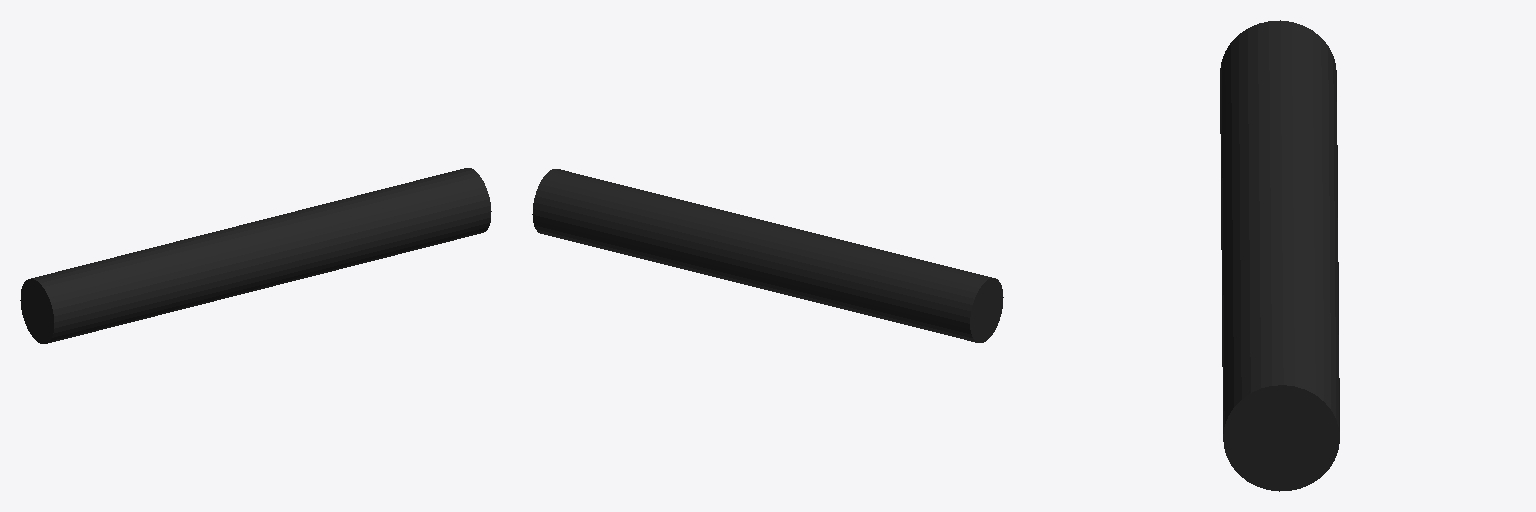
The robot description file, URDF, robot "quad_2_arm":
<?xml version="1.0" encoding="utf-8"?>
 <robot name="quad_2_arm">
    <link name="link1_base">
        <inertial>
            <origin xyz="0 0 0" rpy="0 0 0" />
            <mass value="0.01" />
            <inertia ixx="0.01" iyy="0.01" izz="0.01" ixy="0" ixz="0" iyz="0" />
        </inertial>
<!--         <visual>
            <origin xyz="0 0 0" rpy="0 0 0" />
            <geometry>
                <box size = "0.2 0.1 0.1"/>
            </geometry>
        </visual> -->
<!--         <collision>
            <origin xyz="0 0 0" rpy="0 -0 0" />
        </collision> -->
    </link>
    <link name="link2_virtual">
        <inertial>
            <origin xyz="0 0 0" rpy="0 0 0" />
            <mass value="0.01" />
            <inertia ixx="0.01" iyy="0.01" izz="0.01" ixy="0" ixz="0" iyz="0" />
        </inertial>
<!--         <visual>
            <origin xyz="0 0 0" rpy="0 0 0" />
            <geometry>
                <box size = "0.1 0.2 0.1"/>
            </geometry>
        </visual> -->
<!--         <collision>
            <origin xyz="0 0 0" rpy="0 -0 0" />
        </collision> -->
    </link>
    <link name="link3_virtual">
        <inertial>
            <origin xyz="0 0 0" rpy="0 0 0" />
            <mass value="0.01" />
            <inertia ixx="0.01" iyy="0.01" izz="0.01" ixy="0" ixz="0" iyz="0" />
        </inertial>
<!--         <visual>
            <origin xyz="0 0 0" rpy="0 0 0" />
            <geometry>
                <box size = "0.1 0.1 0.2"/>
            </geometry>
        </visual> -->
<!--         <collision>
            <origin xyz="0 0 0" rpy="0 -0 0" />
        </collision> -->
    </link>
    <link name="link4_virtual">
        <inertial>
            <origin xyz="0 0 0" rpy="0 0 0" />
            <mass value="0.01" />
            <inertia ixx="0.01" iyy="0.01" izz="0.01" ixy="0" ixz="0" iyz="0" />
        </inertial>
<!--         <visual>
            <origin xyz="0 0 0" rpy="0.0 -1.570796 0.0"  />
            <geometry>
                <cylinder radius="0.025" length="0.7"/>
            </geometry>
            <material name="axes_red">
                <color rgba="0.7 0.0 0.0 0.5" />
            </material>
        </visual> -->
<!--         <collision>
            <origin xyz="0 0 0" rpy="0 -0 0" />
        </collision> -->
    </link>
    <link name="link5_virtual">
        <inertial>
            <origin xyz="0 0 0" rpy="0 0 0" />
            <mass value="0.01" />
            <inertia ixx="0.01" iyy="0.01" izz="0.01" ixy="0" ixz="0" iyz="0" />
        </inertial>
<!--         <visual>
            <origin xyz="0 0 0" rpy="1.570796 0.0 0.0" />
            <geometry>
                <cylinder radius="0.025" length="0.7"/>
            </geometry>
            <material name="axes_green">
                <color rgba="0.0 0.7 0.0 0.5" />
            </material>
        </visual> -->
<!--         <collision>
            <origin xyz="0 0 0" rpy="0 -0 0" />
        </collision> -->
    </link>
    <link name="link6_virtual">
        <inertial>
            <origin xyz="0 0 0" rpy="0 0 0" />
            <mass value="0.01" />
            <inertia ixx="0.01" iyy="0.01" izz="0.01" ixy="0" ixz="0" iyz="0" />
        </inertial>
<!--         <visual>
            <origin xyz="0 0 0" rpy="0.0 1.570796 0.0"  />
            <geometry>
                <cylinder radius="0.025" length="0.7"/>
            </geometry>
            <material name="axes_blue">
                <color rgba="0.0 0.0 0.7 0.5" />
            </material>
        </visual> -->
<!--         <collision>
            <origin xyz="0 0 0" rpy="0 -0 0" />
        </collision> -->
    </link>

 <link name="armL_bfinger">
      <inertial>
        <origin xyz="0 0 0" rpy="0 0 0"/>
        <mass value="0.05426"/>
        <inertia ixx="0.001" ixy="0" ixz="0" iyy="0.001" iyz="0" izz="0.001"/>
      </inertial>
      <visual name="visual_0_armL_bfinger">
        <origin xyz="0 0 0" rpy="0 0 0"/>
        <geometry>
          <mesh filename="../../../model/quadrotor/dji_arms_exported_urdf_blender/meshes/obj/armL bfinger.002.obj" scale="1.0 1.0 1.0"/>
        </geometry>
      </visual>
      <collision name="collision_0_armL_bfinger">
        <origin xyz="0 0 0" rpy="0 0 0"/>
        <geometry>
          <mesh filename="../../../model/quadrotor/dji_arms_exported_urdf_blender/meshes/obj/armL bfinger.003.obj" scale="1.0 1.0 1.0"/>
        </geometry>
      </collision>
    </link>

    <link name="armL_hand">
      <inertial>
        <origin xyz="0 0 0" rpy="0 0 0"/>
        <mass value="0.51528"/>
        <inertia ixx="0.001" ixy="-2e-05" ixz="0" iyy="0.001" iyz="0" izz="0.001"/>
      </inertial>
      <visual name="visual_0_armL_hand">
        <origin xyz="0 0 0" rpy="0 0 0"/>
        <geometry>
          <mesh filename="../../../model/quadrotor/dji_arms_exported_urdf_blender/meshes/obj/armL hand.004.obj" scale="1.0 1.0 1.0"/>
        </geometry>
<!--         <material name="hand_blue"/> -->
      </visual>
<!--       <collision name="collision_0_armL_hand">
        <origin xyz="0 0 0" rpy="0 0 0"/>
        <geometry>
          <mesh filename="../../../model/quadrotor/dji_arms_exported_urdf_blender/meshes/obj/armL hand.005.obj" scale="1.0 1.0 1.0"/>
        </geometry>
      </collision> -->
    </link>

    <link name="armL_link1">
      <inertial>
        <origin xyz="0 0 0" rpy="0 0 0"/>
        <mass value="0.29699"/>
        <inertia ixx="0.001" ixy="0" ixz="0" iyy="0.001" iyz="-2e-05" izz="0.001"/>
      </inertial>
      <visual name="visual_0_armL_link1">
        <origin xyz="0 0 0" rpy="0 0 0"/>
        <geometry>
          <mesh filename="../../../model/quadrotor/dji_arms_exported_urdf_blender/meshes/obj/armL link1.004.obj" scale="1.0 1.0 1.0"/>
        </geometry>
<!--         <material name="arm_beige"/> -->
      </visual>
<!--       <collision name="collision_0_armL_link1">
        <origin xyz="0 0 0" rpy="0 0 0"/>
        <geometry>
          <mesh filename="../../../model/quadrotor/dji_arms_exported_urdf_blender/meshes/obj/armL link1.005.obj" scale="1.0 1.0 1.0"/>
        </geometry>
      </collision> -->
    </link>

    <link name="armL_link2">
      <inertial>
        <origin xyz="0 0 0" rpy="0 0 0"/>
        <mass value="0.43522"/>
        <inertia ixx="0.00442" ixy="0" ixz="0" iyy="0.001" iyz="0" izz="0.00438"/>
      </inertial>
      <visual name="visual_0_armL_link2">
        <origin xyz="0 0 0" rpy="0 0 0"/>
        <geometry>
          <mesh filename="../../../model/quadrotor/dji_arms_exported_urdf_blender/meshes/obj/armL link2.002.obj" scale="1.0 1.0 1.0"/>
        </geometry>
      </visual>
<!--       <collision name="collision_0_armL_link2">
        <origin xyz="0 0 0" rpy="0 0 0"/>
        <geometry>
          <mesh filename="../../../model/quadrotor/dji_arms_exported_urdf_blender/meshes/obj/armL link2.003.obj" scale="1.0 1.0 1.0"/>
        </geometry>
      </collision> -->
    </link>

    <link name="armL_link3">
      <inertial>
        <origin xyz="0 0 0" rpy="0 0 0"/>
        <mass value="0.40456"/>
        <inertia ixx="0.00113" ixy="0" ixz="0" iyy="0.001" iyz="8e-05" izz="0.00112"/>
      </inertial>
      <visual name="visual_0_armL_link3">
        <origin xyz="0 0 0" rpy="0 0 0"/>
        <geometry>
          <mesh filename="../../../model/quadrotor/dji_arms_exported_urdf_blender/meshes/obj/armL link3.002.obj" scale="1.0 1.0 1.0"/>
        </geometry>
      </visual>
<!--       <collision name="collision_0_armL_link3">
        <origin xyz="0 0 0" rpy="0 0 0"/>
        <geometry>
          <mesh filename="../../../model/quadrotor/dji_arms_exported_urdf_blender/meshes/obj/armL link3.003.obj" scale="1.0 1.0 1.0"/>
        </geometry>
      </collision> -->
    </link>

    <link name="armL_tfinger">
      <inertial>
        <origin xyz="0 0 0" rpy="0 0 0"/>
        <mass value="0.10851"/>
        <inertia ixx="0.001" ixy="0" ixz="0" iyy="0.001" iyz="0" izz="0.001"/>
      </inertial>
      <visual name="visual_0_armL_tfinger">
        <origin xyz="0 0 0" rpy="0 0 0"/>
        <geometry>
          <mesh filename="../../../model/quadrotor/dji_arms_exported_urdf_blender/meshes/obj/armL tfinger.004.obj" scale="1.0 1.0 1.0"/>
        </geometry>
      </visual>
      <collision name="collision_0_armL_tfinger">
        <origin xyz="0 0 0" rpy="0 0 0"/>
        <geometry>
          <mesh filename="../../../model/quadrotor/dji_arms_exported_urdf_blender/meshes/obj/armL tfinger.005.obj" scale="1.0 1.0 1.0"/>
        </geometry>
      </collision>
    </link>

    <link name="armR_bfinger">
      <inertial>
        <origin xyz="0 0 0" rpy="0 0 0"/>
        <mass value="0.05426"/>
        <inertia ixx="0.001" ixy="2e-05" ixz="0" iyy="0.00103" iyz="0" izz="0.001"/>
      </inertial>
      <visual name="visual_0_armR_bfinger">
        <origin xyz="0 0 0" rpy="0 0 0"/>
        <geometry>
          <mesh filename="../../../model/quadrotor/dji_arms_exported_urdf_blender/meshes/obj/armL bfinger.004.obj" scale="1.0 1.0 1.0"/>
        </geometry>
      </visual>
<!--       <collision name="collision_0_armR_bfinger">
        <origin xyz="0 0 0" rpy="0 0 0"/>
        <geometry>
          <mesh filename="../../../model/quadrotor/dji_arms_exported_urdf_blender/meshes/obj/armL bfinger.005.obj" scale="1.0 1.0 1.0"/>
        </geometry>
      </collision> -->
    </link>

    <link name="armR_hand">
      <inertial>
        <origin xyz="0 0 0" rpy="0 0 0"/>
        <mass value="0.51528"/>
        <inertia ixx="0.001" ixy="-2e-05" ixz="0" iyy="0.001" iyz="0" izz="0.001"/>
      </inertial>
      <visual name="visual_0_armR_hand">
        <origin xyz="0 0 0" rpy="0 0 0"/>
        <geometry>
          <mesh filename="../../../model/quadrotor/dji_arms_exported_urdf_blender/meshes/obj/armL hand.002.obj" scale="1.0 1.0 1.0"/>
        </geometry>
      </visual>
      <visual name="fake_pipe_armR_hand">
        <origin xyz="0 0.1 -0.1" rpy="0 0 0"/>
        <geometry>
          <cylinder radius="0.04" length="0.6"/>
        </geometry>
        <material name="axes_green">
          <color rgba="0.2 0.2 0.2 0.8" />
        </material>
      </visual>
      <collision name="collision_fake_pipe_armR_hand">
        <origin xyz="0 0.1 -0.1" rpy="0 0 0"/>
        <geometry>
          <cylinder radius="0.04" length="0.6"/>
        </geometry>
      </collision>
    </link>

    <link name="armR_link1">
      <inertial>
        <origin xyz="0 0 0" rpy="0 0 0"/>
        <mass value="0.29699"/>
        <inertia ixx="0.001" ixy="0" ixz="0" iyy="0.001" iyz="-2e-05" izz="0.001"/>
      </inertial>
      <visual name="visual_0_armR_link1">
        <origin xyz="0 0 0" rpy="0 0 0"/>
        <geometry>
          <mesh filename="../../../model/quadrotor/dji_arms_exported_urdf_blender/meshes/obj/armL link1.002.obj" scale="1.0 1.0 1.0"/>
        </geometry>
      </visual>
<!--       <collision name="collision_0_armR_link1">
        <origin xyz="0 0 0" rpy="0 0 0"/>
        <geometry>
          <mesh filename="../../../model/quadrotor/dji_arms_exported_urdf_blender/meshes/obj/armL link1.003.obj" scale="1.0 1.0 1.0"/>
        </geometry>
      </collision> -->
    </link>

    <link name="armR_link2">
      <inertial>
        <origin xyz="0 0 0" rpy="0 0 0"/>
        <mass value="0.43522"/>
        <inertia ixx="0.00442" ixy="0" ixz="0" iyy="0.001" iyz="0" izz="0.00438"/>
      </inertial>
      <visual name="visual_0_armR_link2">
        <origin xyz="0 0 0" rpy="0 0 0"/>
        <geometry>
          <mesh filename="../../../model/quadrotor/dji_arms_exported_urdf_blender/meshes/obj/armL link2.004.obj" scale="1.0 1.0 1.0"/>
        </geometry>
      </visual>
<!--       <collision name="collision_0_armR_link2">
        <origin xyz="0 0 0" rpy="0 0 0"/>
        <geometry>
          <mesh filename="../../../model/quadrotor/dji_arms_exported_urdf_blender/meshes/obj/armL link2.005.obj" scale="1.0 1.0 1.0"/>
        </geometry>
      </collision> -->
    </link>

    <link name="armR_link3">
      <inertial>
        <origin xyz="0 0 0" rpy="0 0 0"/>
        <mass value="0.40456"/>
        <inertia ixx="0.00113" ixy="0" ixz="0" iyy="0.001" iyz="8e-05" izz="0.00112"/>
      </inertial>
      <visual name="visual_0_armR_link3">
        <origin xyz="0 0 0" rpy="0 0 0"/>
        <geometry>
          <mesh filename="../../../model/quadrotor/dji_arms_exported_urdf_blender/meshes/obj/armL link3.004.obj" scale="1.0 1.0 1.0"/>
        </geometry>
      </visual>
<!--       <collision name="collision_0_armR_link3">
        <origin xyz="0 0 0" rpy="0 0 0"/>
        <geometry>
          <mesh filename="../../../model/quadrotor/dji_arms_exported_urdf_blender/meshes/obj/armL link3.005.obj" scale="1.0 1.0 1.0"/>
        </geometry>
      </collision> -->
    </link>

    <link name="armR_tfinger">
      <inertial>
        <origin xyz="0 0 0" rpy="0 0 0"/>
        <mass value="0.10851"/>
        <inertia ixx="0.001" ixy="0" ixz="0" iyy="0.001" iyz="0" izz="0.001"/>
      </inertial>
      <visual name="visual_0_armR_tfinger">
        <origin xyz="0 0 0" rpy="0 0 0"/>
        <geometry>
          <mesh filename="../../../model/quadrotor/dji_arms_exported_urdf_blender/meshes/obj/armL tfinger.002.obj" scale="1.0 1.0 1.0"/>
        </geometry>
      </visual>
<!--       <collision name="collision_0_armR_tfinger">
        <origin xyz="0 0 0" rpy="0 0 0"/>
        <geometry>
          <mesh filename="../../../model/quadrotor/dji_arms_exported_urdf_blender/meshes/obj/armL tfinger.003.obj" scale="1.0 1.0 1.0"/>
        </geometry>
      </collision> -->
    </link>

    <link name="dji_hexcopter">
      <inertial>
        <origin xyz="0 0 0" rpy="0 0 0"/>
        <mass value="1.8786"/>
        <inertia ixx="0.00376" ixy="0" ixz="0" iyy="0.00479" iyz="0" izz="0.00173"/>
      </inertial>
      <visual name="visual_0_dji_hexcopter">
        <origin xyz="0 0 0" rpy="0 0 0"/>
        <geometry>
          <mesh filename="../../../model/quadrotor/dji_arms_exported_urdf_blender/meshes/obj/dji hexcopter.002.obj" scale="1.4 1.4 1.4"/>
        </geometry>
<!--         <material name="hexcopter_red"/> -->
      </visual>
<!--       <collision name="collision_0_dji_hexcopter">
        <origin xyz="0 0 0" rpy="0 0 0"/>
        <geometry>
          <mesh filename="../../../model/quadrotor/dji_arms_exported_urdf_blender/meshes/obj/dji hexcopter.003.obj" scale="1.0 1.0 1.0"/>
        </geometry>
      </collision> -->
    </link>

    <joint name="armL_joint1" type="revolute">
      <origin xyz="0.09567 -0.02984 -0.0907" rpy="-1.1425 0 -1.5708"/>
      <parent link="dji_hexcopter"/>
      <child link="armL_link1"/>
      <axis xyz="0 1.0 0"/>
      <limit lower="-3.14159" upper="3.14159" effort="100" velocity="50" />
    </joint>

    <joint name="armL_joint2" type="revolute">
      <origin xyz="0 0.06133 -0.0677" rpy="0 0 0"/>
      <parent link="armL_link1"/>
      <child link="armL_link2"/>
      <axis xyz="0 0 1.0"/>
      <limit lower="-3.14159" upper="3.14159" effort="100" velocity="50" />
    </joint>

    <joint name="armL_joint3" type="revolute">
      <origin xyz="0 0.2125 -0.02883" rpy="0 0 0"/>
      <parent link="armL_link2"/>
      <child link="armL_link3"/>
      <axis xyz="0 0 1.0"/>
      <limit lower="-3.14159" upper="3.14159" effort="100" velocity="50" />
    </joint>

    <joint name="armL_joint_bfinger" type="revolute">
      <origin xyz="0.03336 0.05794 0" rpy="0 0 0"/>
      <parent link="armL_hand"/>
      <child link="armL_bfinger"/>
      <axis xyz="0 0 1.0"/>
      <limit lower="-3.14159" upper="3.14159" effort="100" velocity="50" />
    </joint>

    <joint name="armL_joint_tfinger" type="revolute">
      <origin xyz="-0.0334 0.05794 0" rpy="0 0 0"/>
      <parent link="armL_hand"/>
      <child link="armL_tfinger"/>
      <axis xyz="0 0 1.0"/>
      <limit lower="-3.14159" upper="3.14159" effort="100" velocity="50" />
    </joint>

    <joint name="armL_joint_wrist" type="revolute">
      <origin xyz="0 0.18481 0.09983" rpy="-0.03467 1.57079 -0.04367"/>
      <parent link="armL_link3"/>
      <child link="armL_hand"/>
      <axis xyz="0 1.0 0"/>
      <limit lower="-3.14159" upper="3.14159" effort="100" velocity="50" />
    </joint>

    <joint name="armR_joint1" type="revolute">
      <origin xyz="-0.09567 -0.02984 -0.0907" rpy="-1.1425 0 1.5708"/>
      <parent link="dji_hexcopter"/>
      <child link="armR_link1"/>
      <axis xyz="0 1.0 0"/>
      <limit lower="-3.14159" upper="3.14159" effort="100" velocity="50" />
    </joint>

    <joint name="armR_joint2" type="revolute">
      <origin xyz="0 0.06133 -0.0677" rpy="0 0 0"/>
      <parent link="armR_link1"/>
      <child link="armR_link2"/>
      <axis xyz="0 0 1.0"/>
      <limit lower="-3.14159" upper="3.14159" effort="100" velocity="50" />
    </joint>

    <joint name="armR_joint3" type="revolute">
      <origin xyz="0 0.2125 -0.02883" rpy="0 0 0"/>
      <parent link="armR_link2"/>
      <child link="armR_link3"/>
      <axis xyz="0 0 1.0"/>
      <limit lower="-3.14159" upper="3.14159" effort="100" velocity="50" />
    </joint>

    <joint name="armR_joint_bfinger" type="revolute">
      <origin xyz="0.03336 0.05794 0" rpy="0 0 0"/>
      <parent link="armR_hand"/>
      <child link="armR_bfinger"/>
      <axis xyz="0 0 1.0"/>
      <limit lower="-3.14159" upper="3.14159" effort="100" velocity="50" />
    </joint>

    <joint name="armR_joint_tfinger" type="revolute">
      <origin xyz="-0.0334 0.05794 0" rpy="0 0 0"/>
      <parent link="armR_hand"/>
      <child link="armR_tfinger"/>
      <axis xyz="0 0 1.0"/>
      <limit lower="-3.14159" upper="3.14159" effort="100" velocity="50" />
    </joint>

    <joint name="armR_joint_wrist" type="revolute">
      <origin xyz="0 0.18481 0.09983" rpy="-0.03466 1.57079 -0.0261"/>
      <parent link="armR_link3"/>
      <child link="armR_hand"/>
      <axis xyz="0 1.0 0"/>
      <limit lower="-3.14159" upper="3.14159" effort="100" velocity="50" />
    </joint>

    <joint name="quad_x_pris" type="prismatic">
        <parent link="link1_base" />
        <child link="link2_virtual" />
        <origin xyz="0.0 0.0 0.0" rpy="0.0 0.0 0.0" />
        <axis xyz="1 0 0" />
        <limit lower="-100" upper="100" effort="100" velocity="100" />
    </joint>
    <joint name="quad_y_pris" type="prismatic">
        <parent link="link2_virtual" />
        <child link="link3_virtual" />
        <origin xyz="0.0 0.0 0.0" rpy="0.0 0.0 0.0" />
        <axis xyz="0 1 0" />
        <limit lower="-100" upper="100" effort="100" velocity="100" />
    </joint>
    <joint name="quad_z_pris" type="prismatic">
        <parent link="link3_virtual" />
        <child link="link4_virtual" />
        <origin xyz="0.0 0.0 0.0" rpy="0.0 0.0 0.0" />
        <axis xyz="0 0 1" />
        <limit lower="-100" upper="100" effort="100" velocity="100" />
    </joint>
    <joint name="quad_roll" type="revolute">
        <parent link="link4_virtual" />
        <child link="link5_virtual" />
        <origin xyz="0.0 0.0 0.0" rpy="0.0 1.570796 0.0" />
        <axis xyz="0 0 1" />
        <limit lower="-3.14159" upper="3.14159" effort="100" velocity="50" />
    </joint>
    <joint name="quad_pitch" type="revolute">
        <parent link="link5_virtual" />
        <child link="link6_virtual" />
        <origin xyz="0.0 0.0 0.0" rpy="-1.570796 0.0 0.0" />
        <axis xyz="0 0 1" />
        <limit lower="-3.14159" upper="3.14159" effort="100" velocity="50" />
    </joint>
    <joint name="quad_yaw" type="revolute">
        <parent link="link6_virtual" />
        <child link="dji_hexcopter" />
        <origin xyz="0.0 0.0 0.0" rpy="0.0 -1.570796 0.0" />
        <axis xyz="0 0 1" />
        <limit lower="-3.14159" upper="3.14159" effort="100" velocity="50" />
    </joint>


    <material name="arm_beige">
      <color rgba="0.94509 0.79215 0.72941 0.5"/>
    </material>

    <material name="finger_purple">
      <color rgba="0.54901 0.38823 0.81176 0.5"/>
    </material>

    <material name="hand_blue">
      <color rgba="0.2 0.67843 0.8 0.5"/>
    </material>

    <material name="hexcopter_red">
      <color rgba="0.7098 0.18823 0.14117 0.5"/>
    </material>

</robot>

--- Render facts (derived) ---
Views: 3 orthographic renders of the robot side by side, from view 1: azimuth 30°, elevation 25°; view 2: azimuth 150°, elevation 25°; view 3: azimuth 270°, elevation 25°.
Robot: quad_2_arm — 19 links, 18 joints (15 revolute, 3 prismatic); root link link1_base; default pose: every joint at zero.
Visible links, largest first — view 1: armR_hand; view 2: armR_hand; view 3: armR_hand.
Boxes of the visible links, box(x1,y1,x2,y2) form: armR_hand: box(20, 168, 491, 343); armR_hand: box(532, 169, 1003, 342); armR_hand: box(1220, 20, 1339, 491).
Size in the robot's own frame: 0.6007 by 0.0821 by 0.0846 metres.
Geometry: only primitive shapes (box / cylinder / sphere) drawn; not drawn: 13 mesh visuals (reference in a form the renderer does not follow).